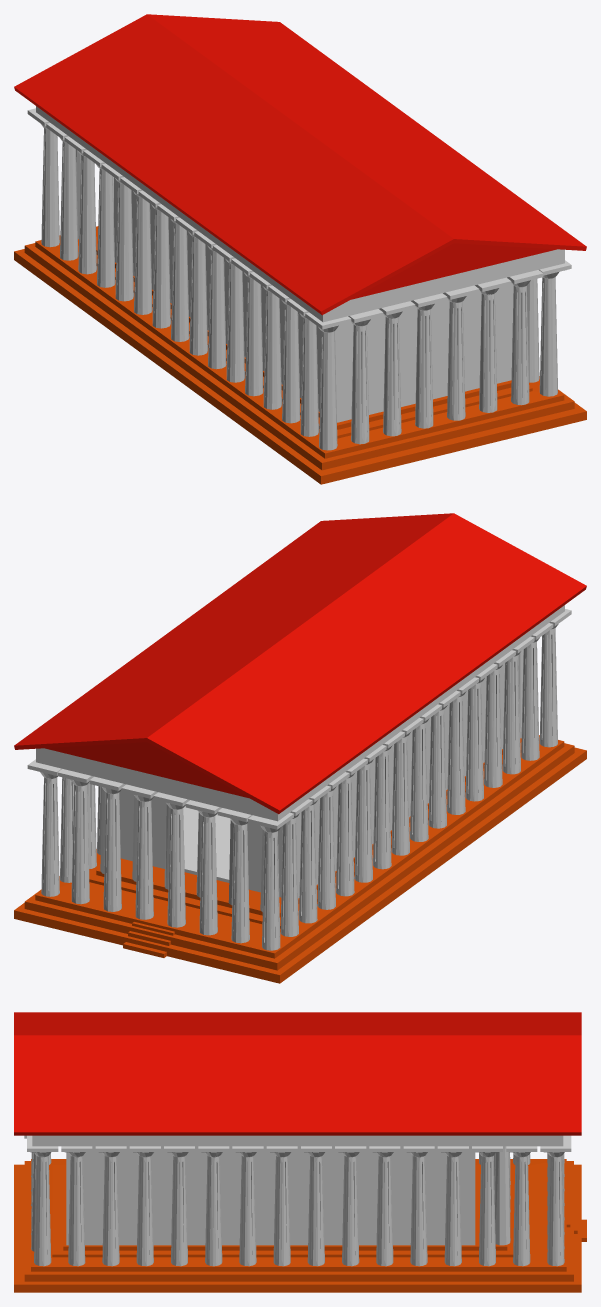
Rendered from Partenón.fbx.
The picture shows the model from 3 angles, top to bottom: view 1: azimuth 30°, elevation 25°; view 2: azimuth 150°, elevation 25°; view 3: azimuth 270°, elevation 25°; orthographic projection. The views are drawn at different scales.
Parts seen in each view (by area): view 1: partenon; view 2: partenon; view 3: partenon.
Boxes of the visible parts, x1,y1,x2,y2 form: partenon: (14, 14, 586, 484); partenon: (14, 513, 586, 983); partenon: (14, 1012, 586, 1292).
Bounding box in the file's own units: 250 × 192 × 505.
